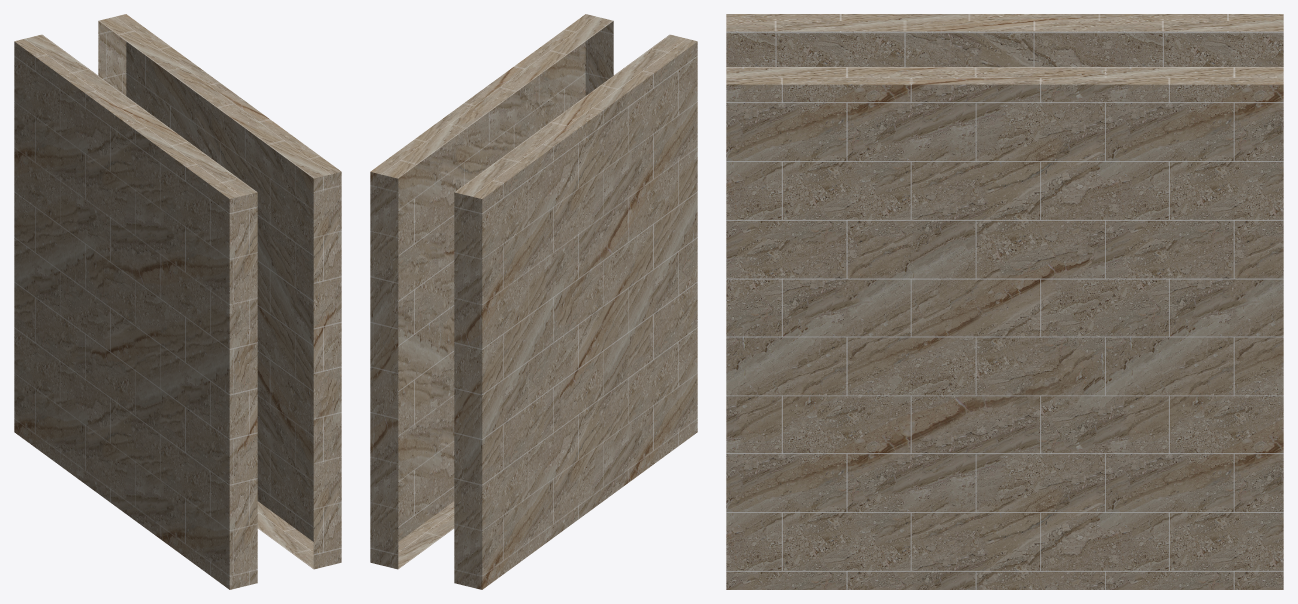
File: simple wall 2x2x06 tiles.fbx
The picture shows the model from 3 angles, left to right: view 1: azimuth 30°, elevation 25°; view 2: azimuth 150°, elevation 25°; view 3: azimuth 270°, elevation 25°; orthographic projection. The views are drawn at different scales.
Visible parts, largest first — view 1: Cube; view 2: Cube; view 3: Cube.
Part boxes in pixels (box(x1,y1,x2,y2)): Cube: box(14, 14, 341, 589); Cube: box(370, 14, 697, 589); Cube: box(726, 14, 1283, 589).
Bounding box in the file's own units: 60 × 200 × 200.
